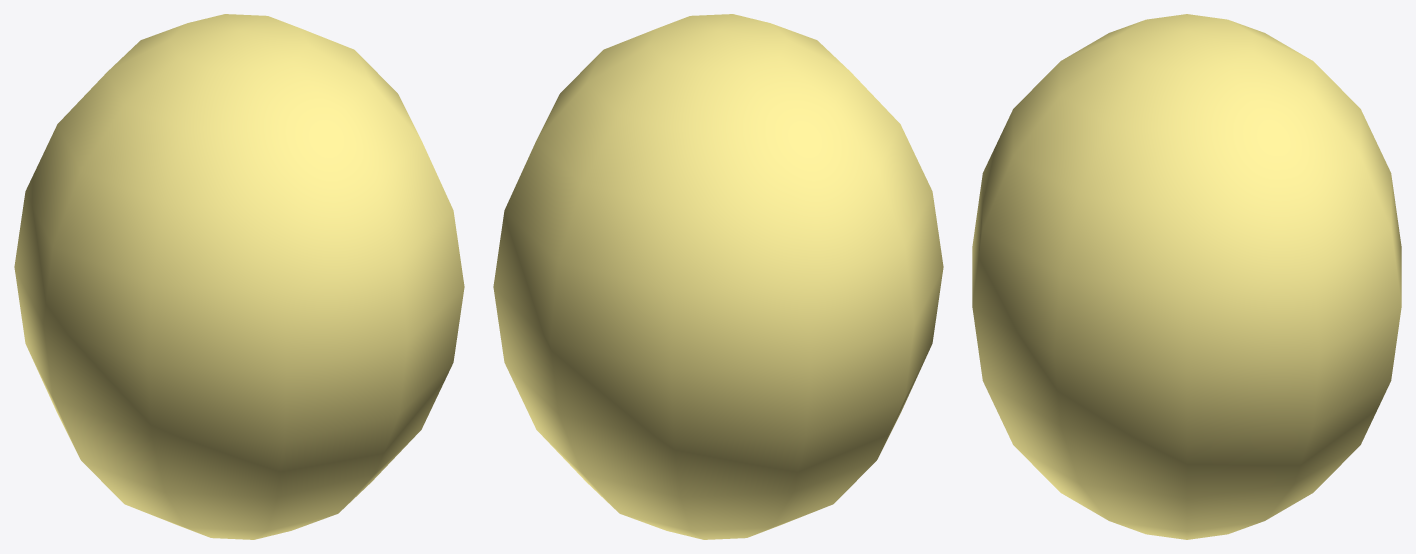
The model's file is Caudalume_stage1.obj.
The picture shows the model from 3 angles, left to right: view 1: azimuth 30°, elevation 25°; view 2: azimuth 150°, elevation 25°; view 3: azimuth 270°, elevation 25°; orthographic projection.
Size of the model in its own units: 1.6 by 1.92 by 1.52.
